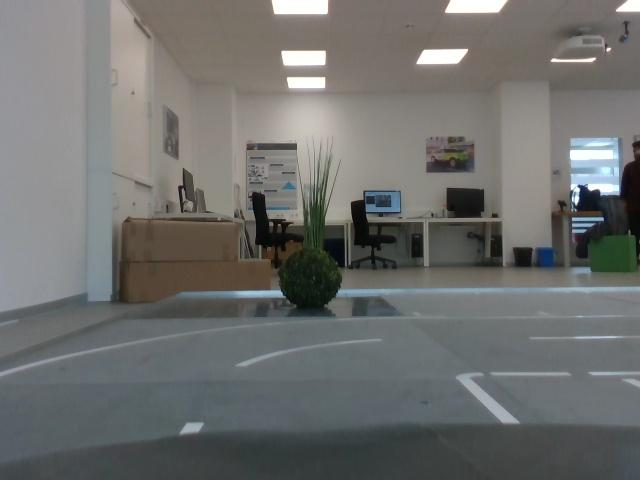potted plant: (301, 140, 343, 250), (280, 249, 345, 314)
